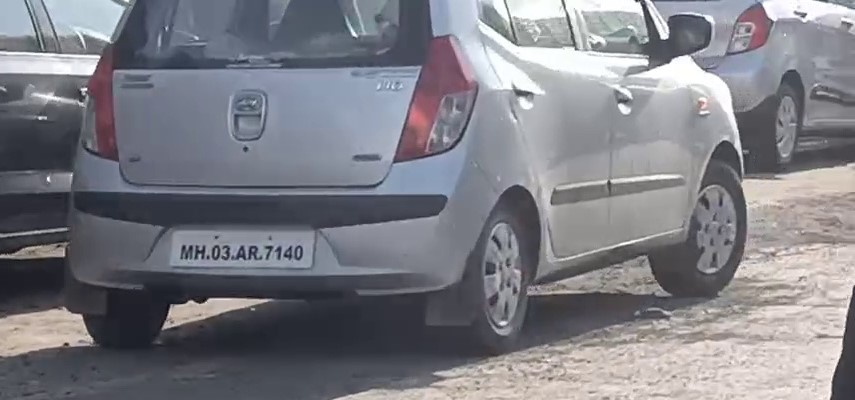MH03AR7140: (172, 231, 315, 268)
